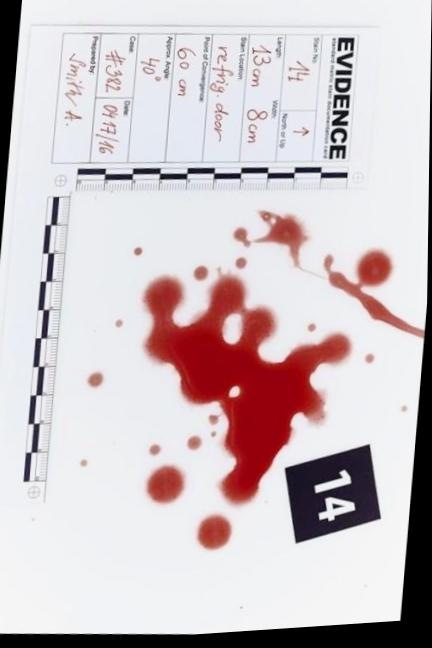Fire: (142, 271, 353, 510), (325, 252, 426, 344), (253, 214, 311, 273), (148, 467, 187, 507), (199, 517, 234, 553), (234, 230, 251, 250), (88, 373, 105, 390), (188, 438, 204, 453), (194, 268, 209, 283), (235, 260, 248, 272)
